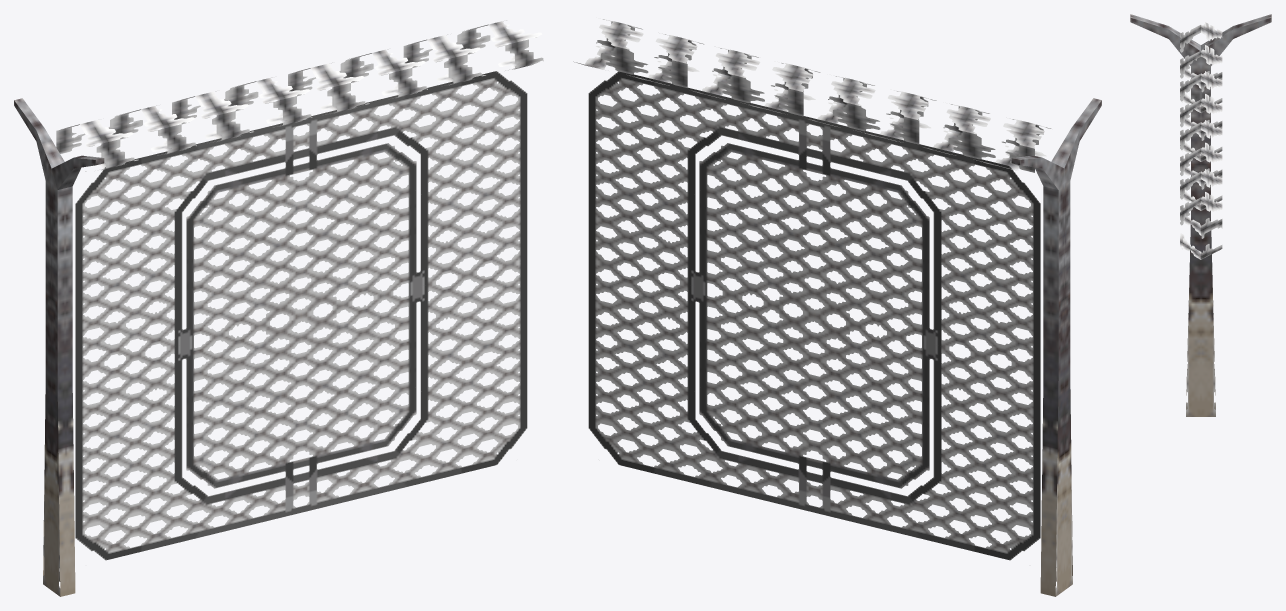
The model's file is Zaun.fbx.
3 views of the same model, side by side, from view 1: azimuth 30°, elevation 25°; view 2: azimuth 150°, elevation 25°; view 3: azimuth 270°, elevation 25° (orthographic). The views are drawn at different scales.
Visible parts, largest first — view 1: Zaun; view 2: Zaun; view 3: Zaun.
Boxes of the visible parts, x1=… form: Zaun: x1=14, y1=20, x2=543, y2=596; Zaun: x1=573, y1=19, x2=1101, y2=596; Zaun: x1=1130, y1=14, x2=1271, y2=416.
Size of the model in its own units: 319 by 292 by 94.
1 material, 1 textured.
